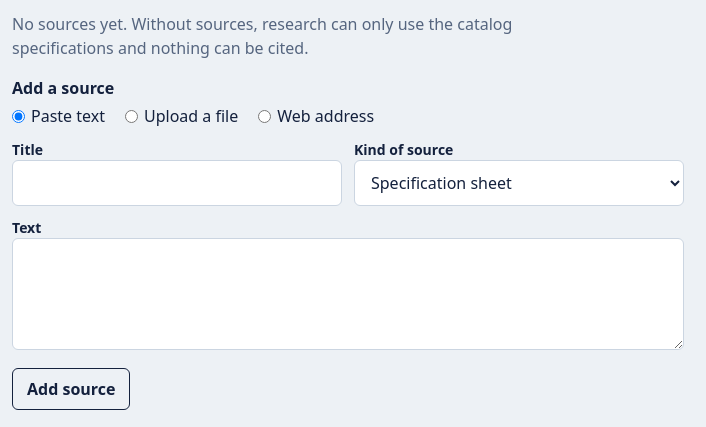
Test: ProductSources › registers a web address, has the API fetch it, then embeds it
Expected: the text "No sources yet" is shown, left=12, top=13, right=512, bottom=59
Click the radio button labelled "Web address" at point(265, 116), box left=258, top=110, right=271, bottom=122
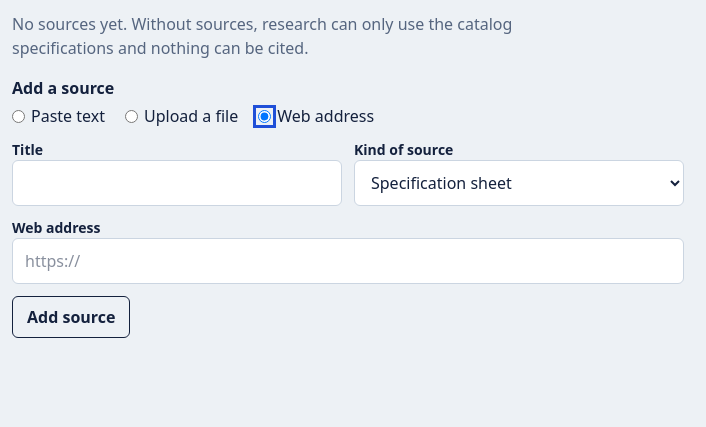
Type "Maker page" into the field labelled "Title" at point(177, 183), box left=12, top=160, right=342, bottom=206
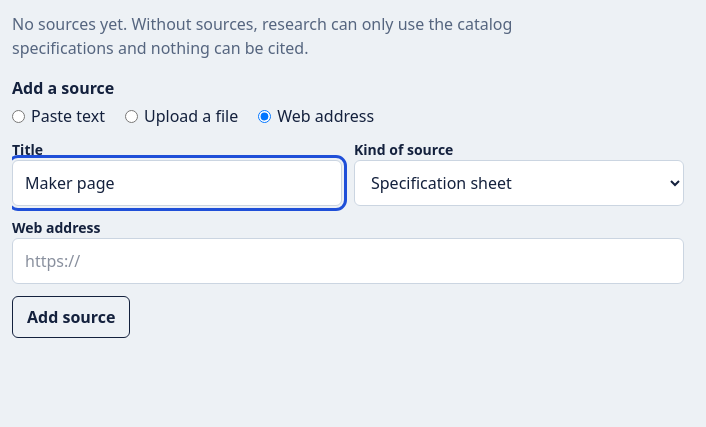
Type "notaurl" into the field labelled "Web address" at point(348, 261), box left=12, top=238, right=684, bottom=284
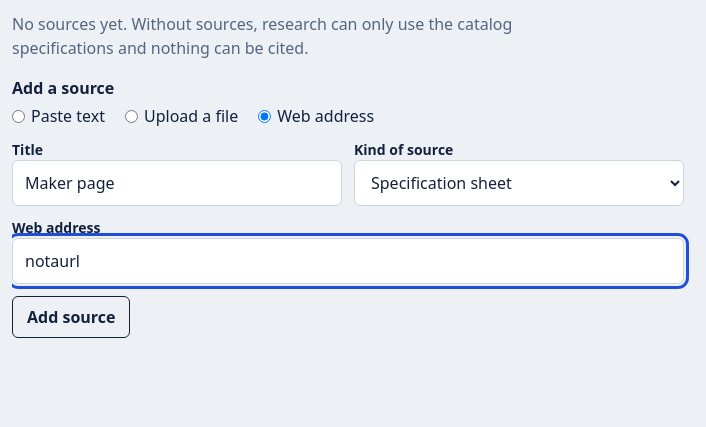
Click the button "Add source" at point(71, 317), box left=12, top=296, right=130, bottom=338
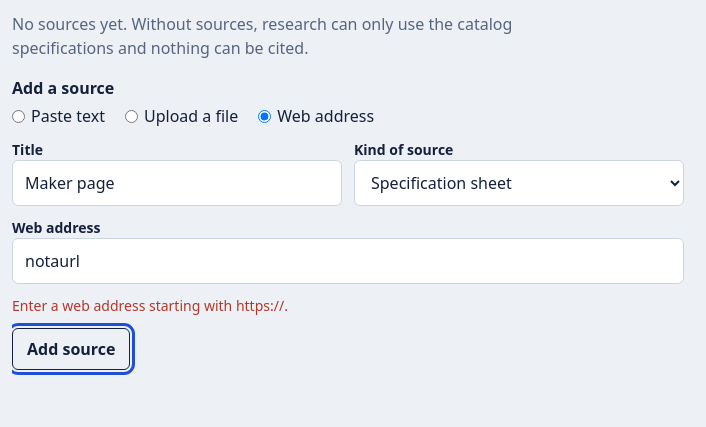
Expected: the message shows "starting with https://", left=12, top=296, right=288, bottom=315
Replace the text in the field labelled "Web address" with "https://example.com/swift" at point(348, 261), box left=12, top=238, right=684, bottom=284
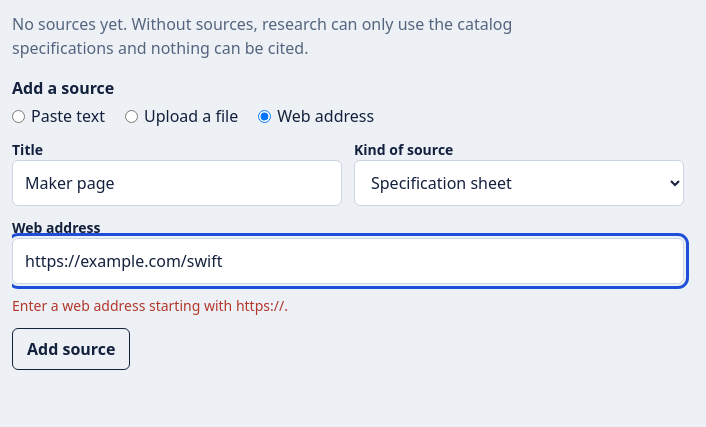
Click the button "Add source" at point(71, 349), box left=12, top=328, right=130, bottom=370
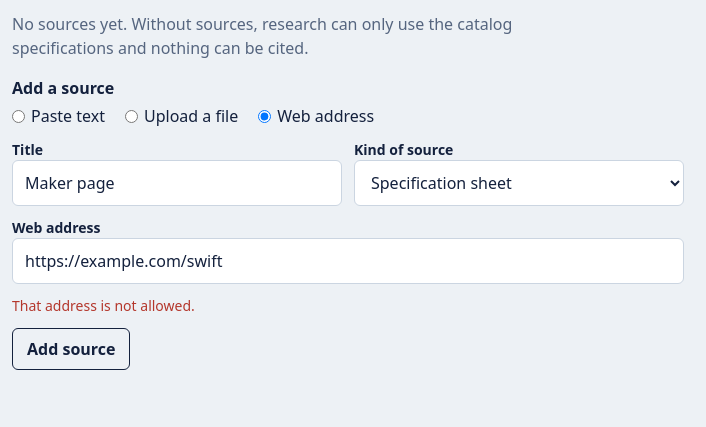
Expected: the message reads "That address is not allowed.", left=12, top=296, right=195, bottom=315
